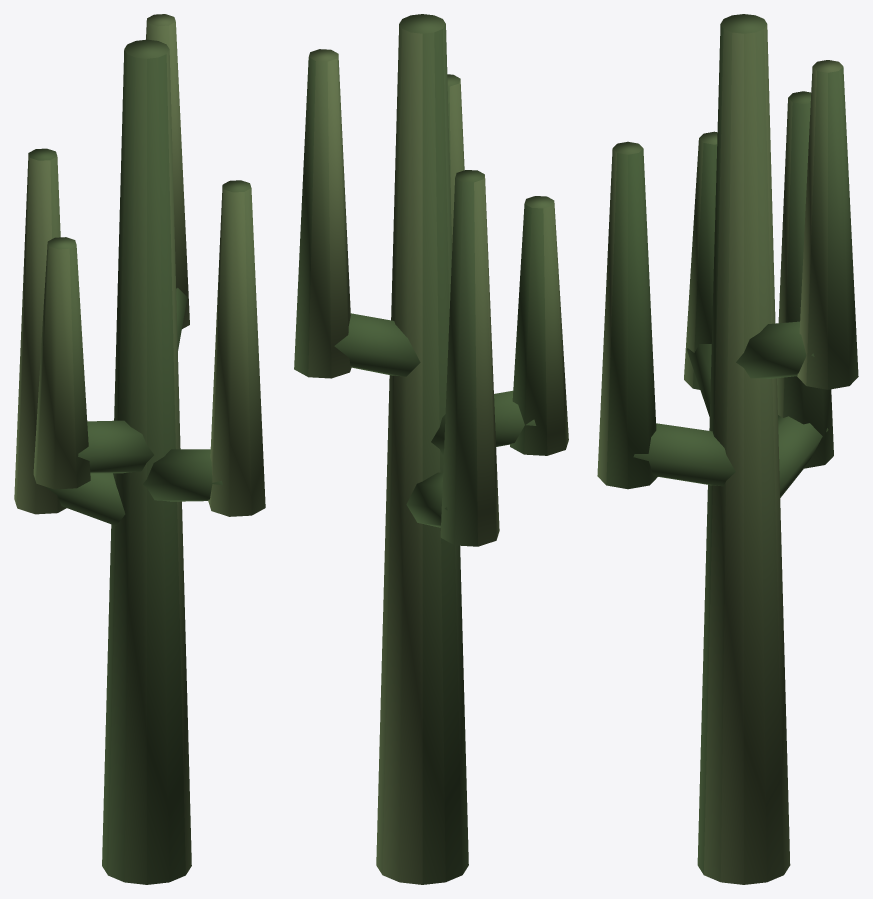
Rendered from env_saguaro_b.glb.
The picture shows the model from 3 angles, left to right: view 1: azimuth 30°, elevation 25°; view 2: azimuth 150°, elevation 25°; view 3: azimuth 270°, elevation 25°; orthographic projection. The views are drawn at different scales.
Parts seen in each view (by area): view 1: env_saguaro_b; view 2: env_saguaro_b; view 3: env_saguaro_b.
Part boxes in pixels (left/top/right/bottom): env_saguaro_b: left=14, top=14, right=265, bottom=884; env_saguaro_b: left=294, top=14, right=568, bottom=884; env_saguaro_b: left=597, top=14, right=858, bottom=884.
Bounding box in the file's own units: 1.8 × 6.82 × 1.92.
